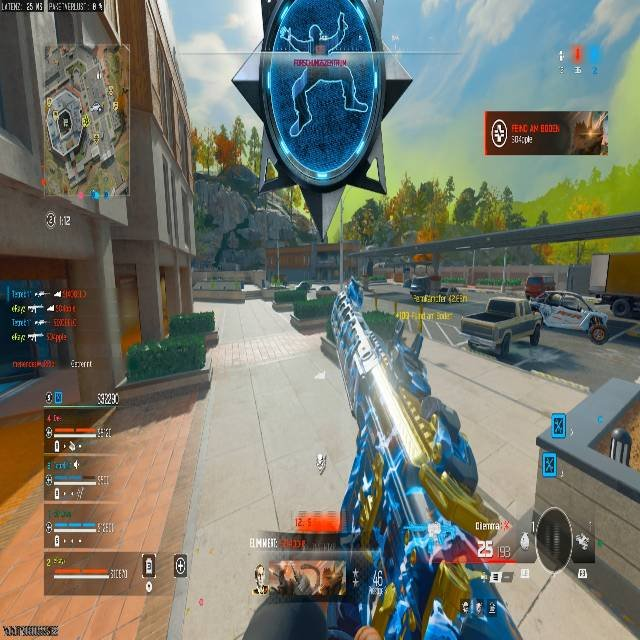head: (233, 602, 333, 639), (523, 272, 549, 298)
player: (489, 273, 558, 354), (344, 274, 367, 316)
